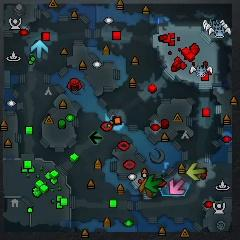x1: (169, 179, 186, 195)
x2: (186, 163, 205, 181)
x3: (31, 39, 49, 59)
x4: (146, 174, 163, 193)
x4Clone: (88, 131, 104, 145)
x5: (139, 178, 152, 197)
